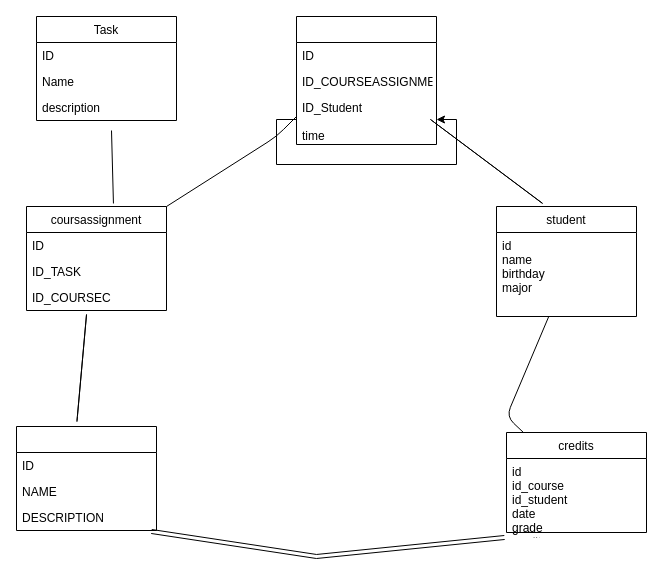
This 663x575 diagram has some shape labels left out. The box of each missing label's shape, as (x1, y1, x2, y2) in pixels:
COURSE: (16, 426, 156, 530)
List: (296, 16, 436, 144)
